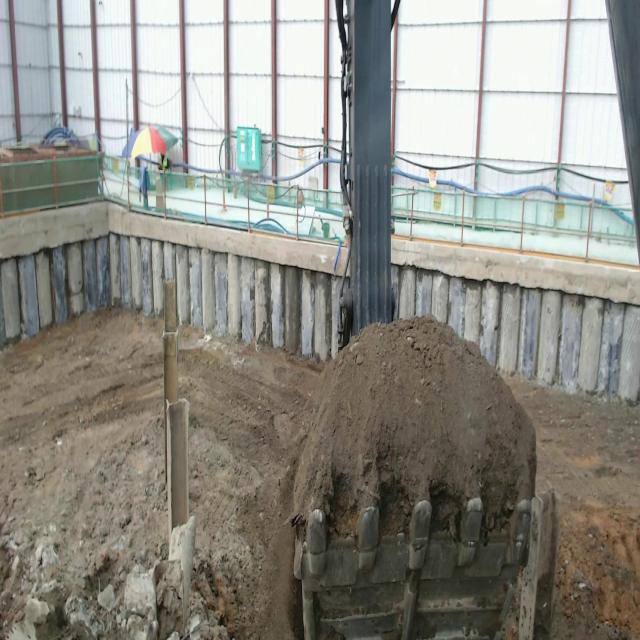red-sand: (0, 310, 320, 639), (290, 316, 536, 540), (505, 378, 640, 639)
